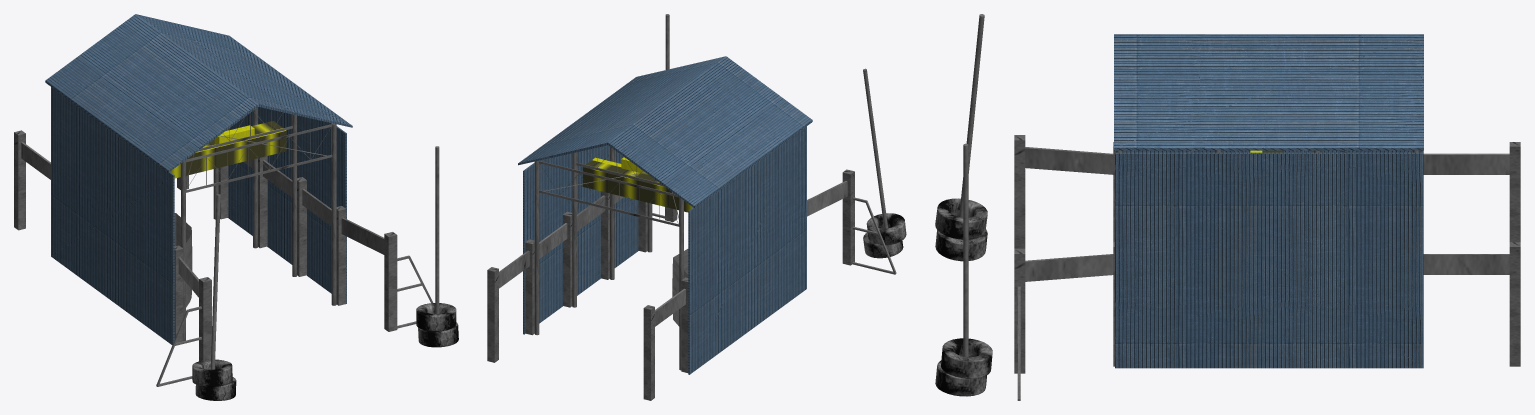
Rendered from ASARCo_Crusher.fbx.
The picture shows the model from 3 angles, left to right: view 1: azimuth 30°, elevation 25°; view 2: azimuth 150°, elevation 25°; view 3: azimuth 270°, elevation 25°; orthographic projection. The views are drawn at different scales.
Visible parts, largest first — view 1: CrusherFrame, Tire01, Tire03, Tire02; view 2: CrusherFrame, Tire03, Tire02; view 3: CrusherFrame, Tire01, Tire03, Tire02.
Part boxes in pixels (<box>): CrusherFrame: <box>14,14,458,386</box>; Tire01: <box>416,303,456,331</box>; Tire03: <box>192,359,232,386</box>; Tire02: <box>195,377,236,400</box>; CrusherFrame: <box>487,14,896,400</box>; Tire03: <box>866,213,906,245</box>; Tire02: <box>863,232,903,258</box>; CrusherFrame: <box>935,14,1520,400</box>; Tire01: <box>941,338,992,378</box>; Tire03: <box>935,198,987,239</box>; Tire02: <box>935,229,987,261</box>.
Bounding box in the file's own units: 373 × 281 × 532.
Materials: 4 (4 with a texture image).
